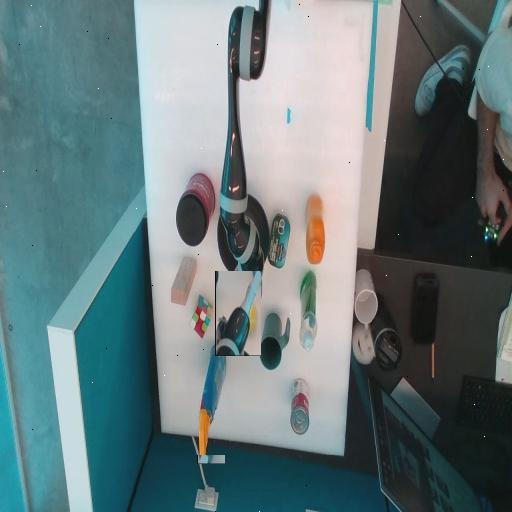bowl: (217, 210, 268, 262)
cleanser: (300, 271, 316, 350)
coffee_can: (176, 174, 214, 245)
jaco: (216, 271, 261, 355)
meat_can: (267, 230, 289, 251)
mug: (259, 313, 289, 369)
mustard_bottle: (305, 220, 324, 239)
rubik: (190, 305, 212, 327)
soup_can: (290, 397, 308, 415)
tennis_ball: (221, 300, 238, 317)
windex: (198, 345, 225, 463)
wooden_block: (170, 268, 195, 293)
workspace: (135, 3, 372, 455)
